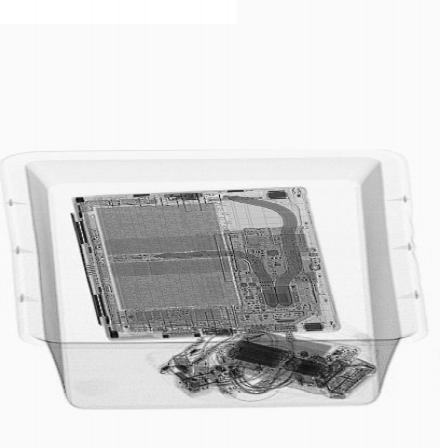Powerbank: (219, 341, 345, 382)
